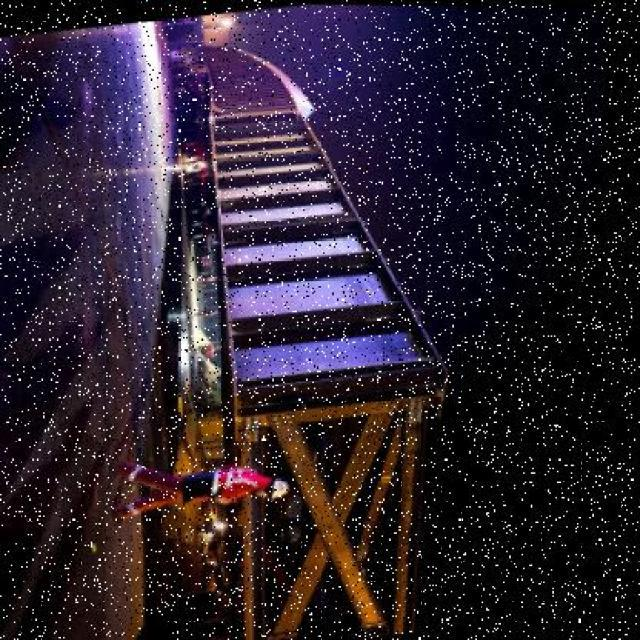helmet: (272, 477, 296, 497)
vest: (215, 463, 279, 496)
